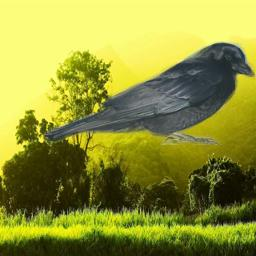Crow: (42, 41, 255, 145)
